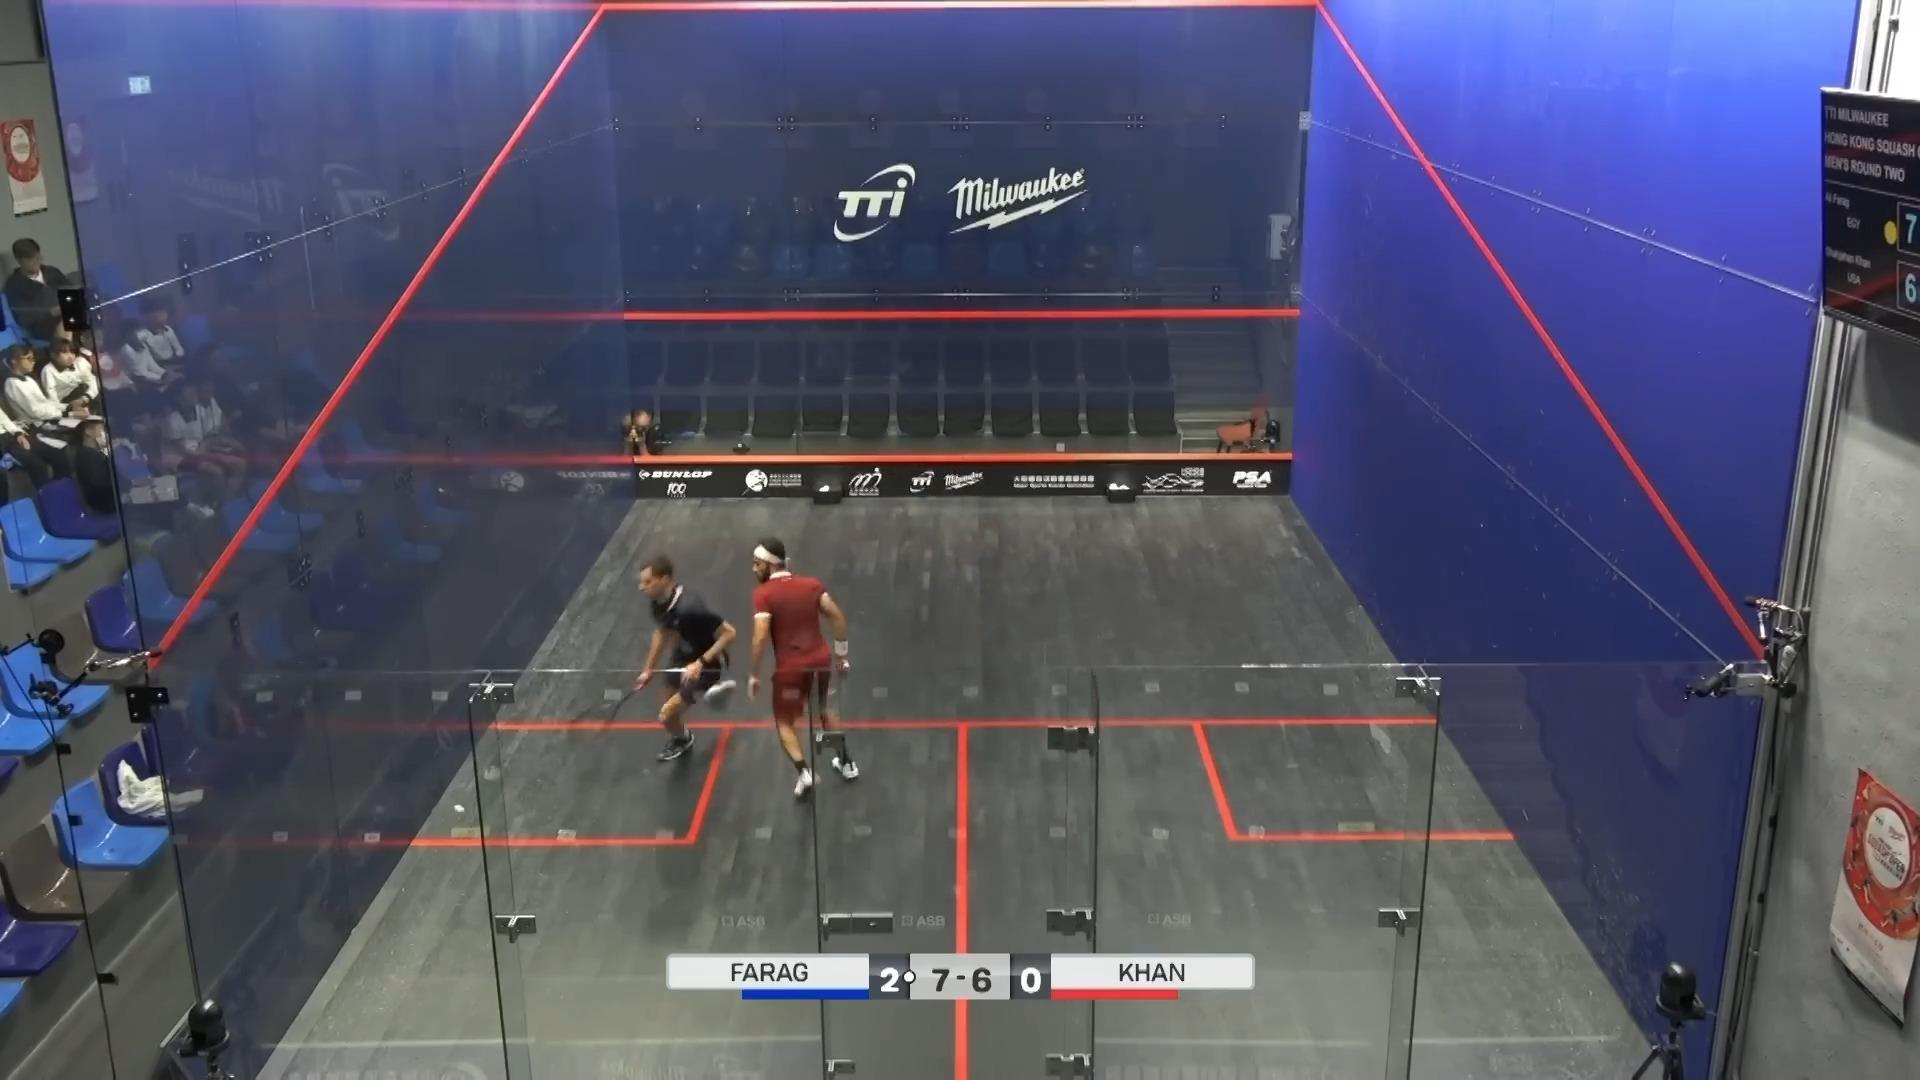Racket: (559, 686, 641, 746)
